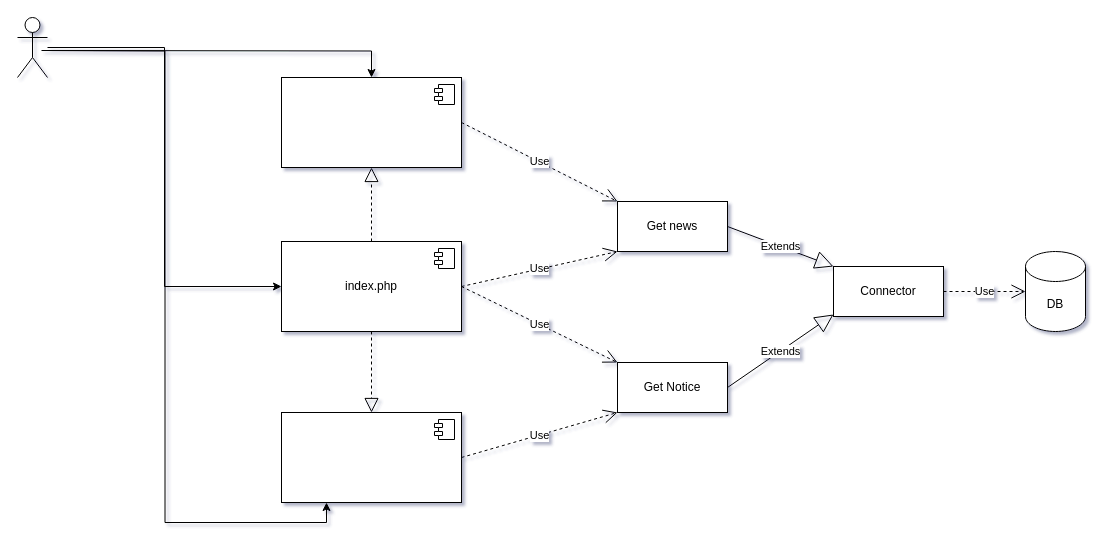
Some shapes in this 1109 by 554 pixel diagram are drawn without their labels. The centre of each missing label's shape, as x and y in pixels:
"Actor" belongs at point 32,47.
"news.php" belongs at point 371,122.
"notice.php" belongs at point 371,457.
